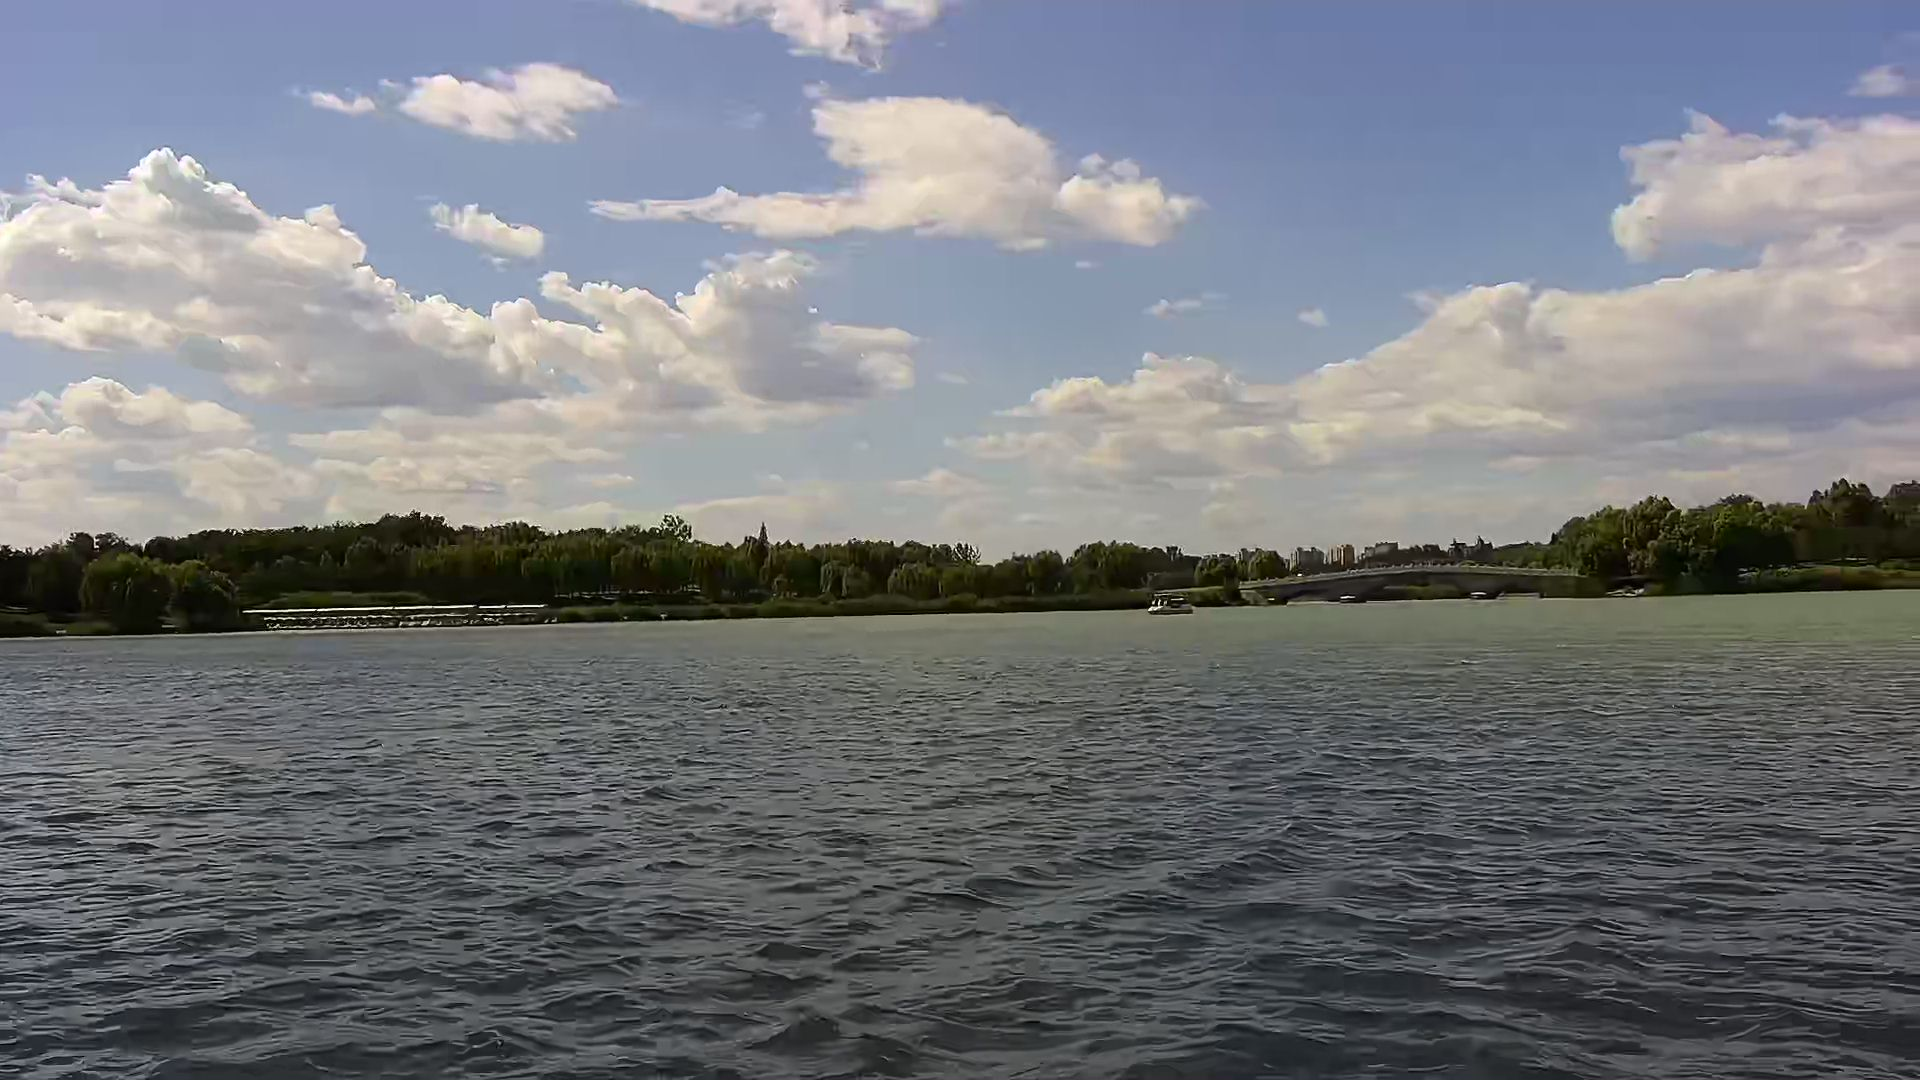boat: (1147, 593, 1196, 615)
bridge: (1232, 567, 1586, 604), (255, 607, 547, 632)
